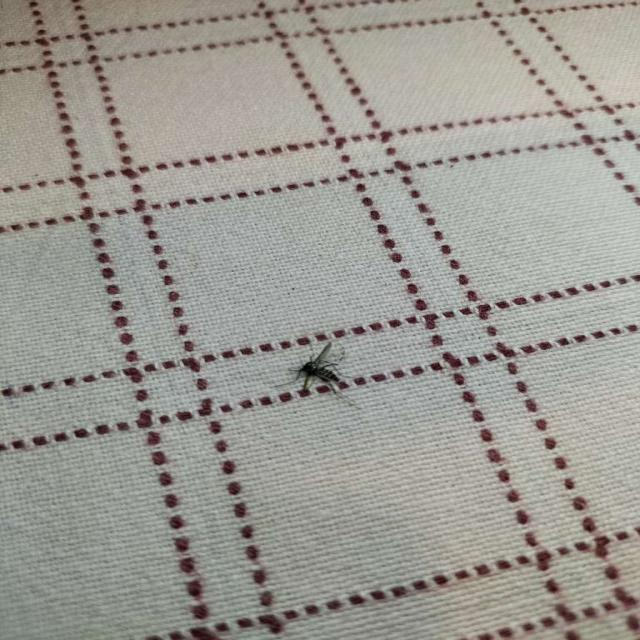albopictus: (264, 337, 369, 407)
